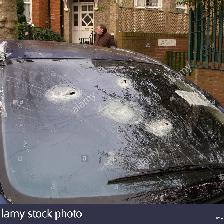broken_glass: (8, 26, 224, 205)
